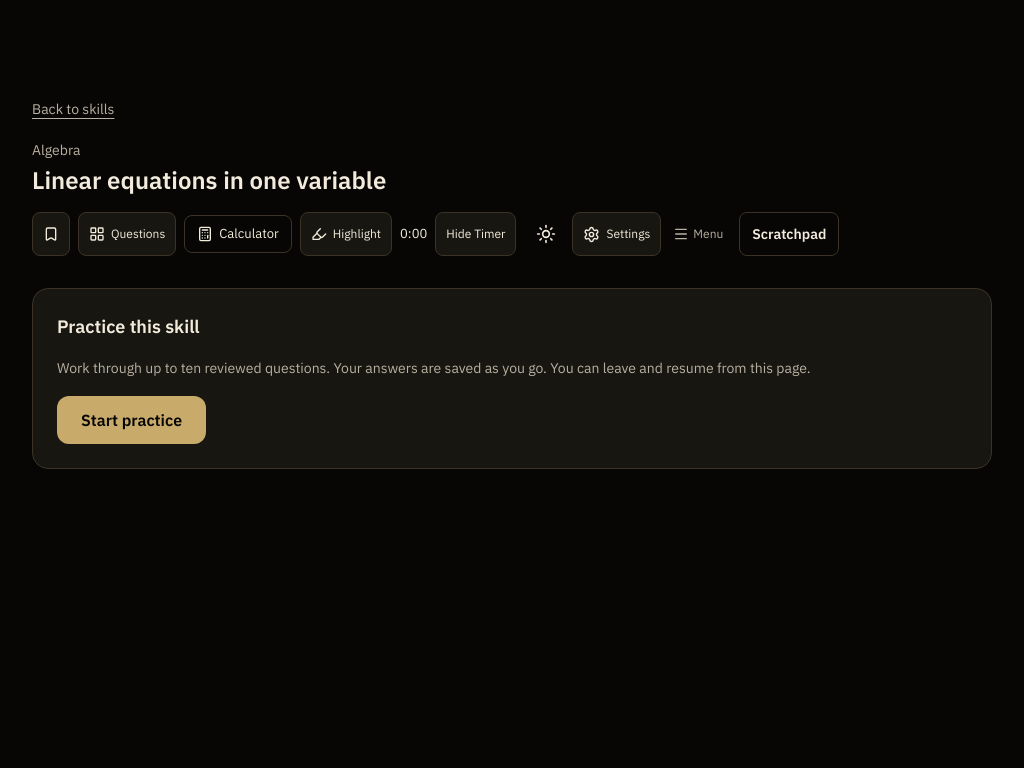
Test: canonical student practice › allocates only after explicit start and pins the returned owned session in the URL
Click the button "Start practice" at (132, 420), box [57, 396, 206, 444]
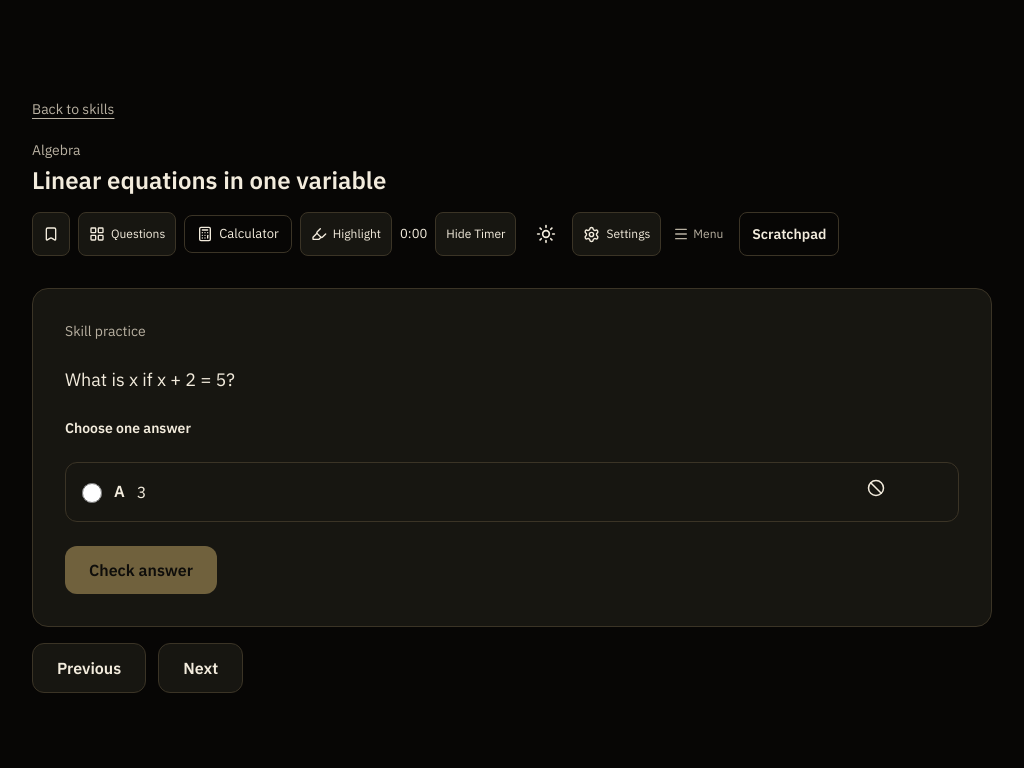
Result: the text "What is x if x + 2 = 5?" is shown at [65, 368, 235, 391]
